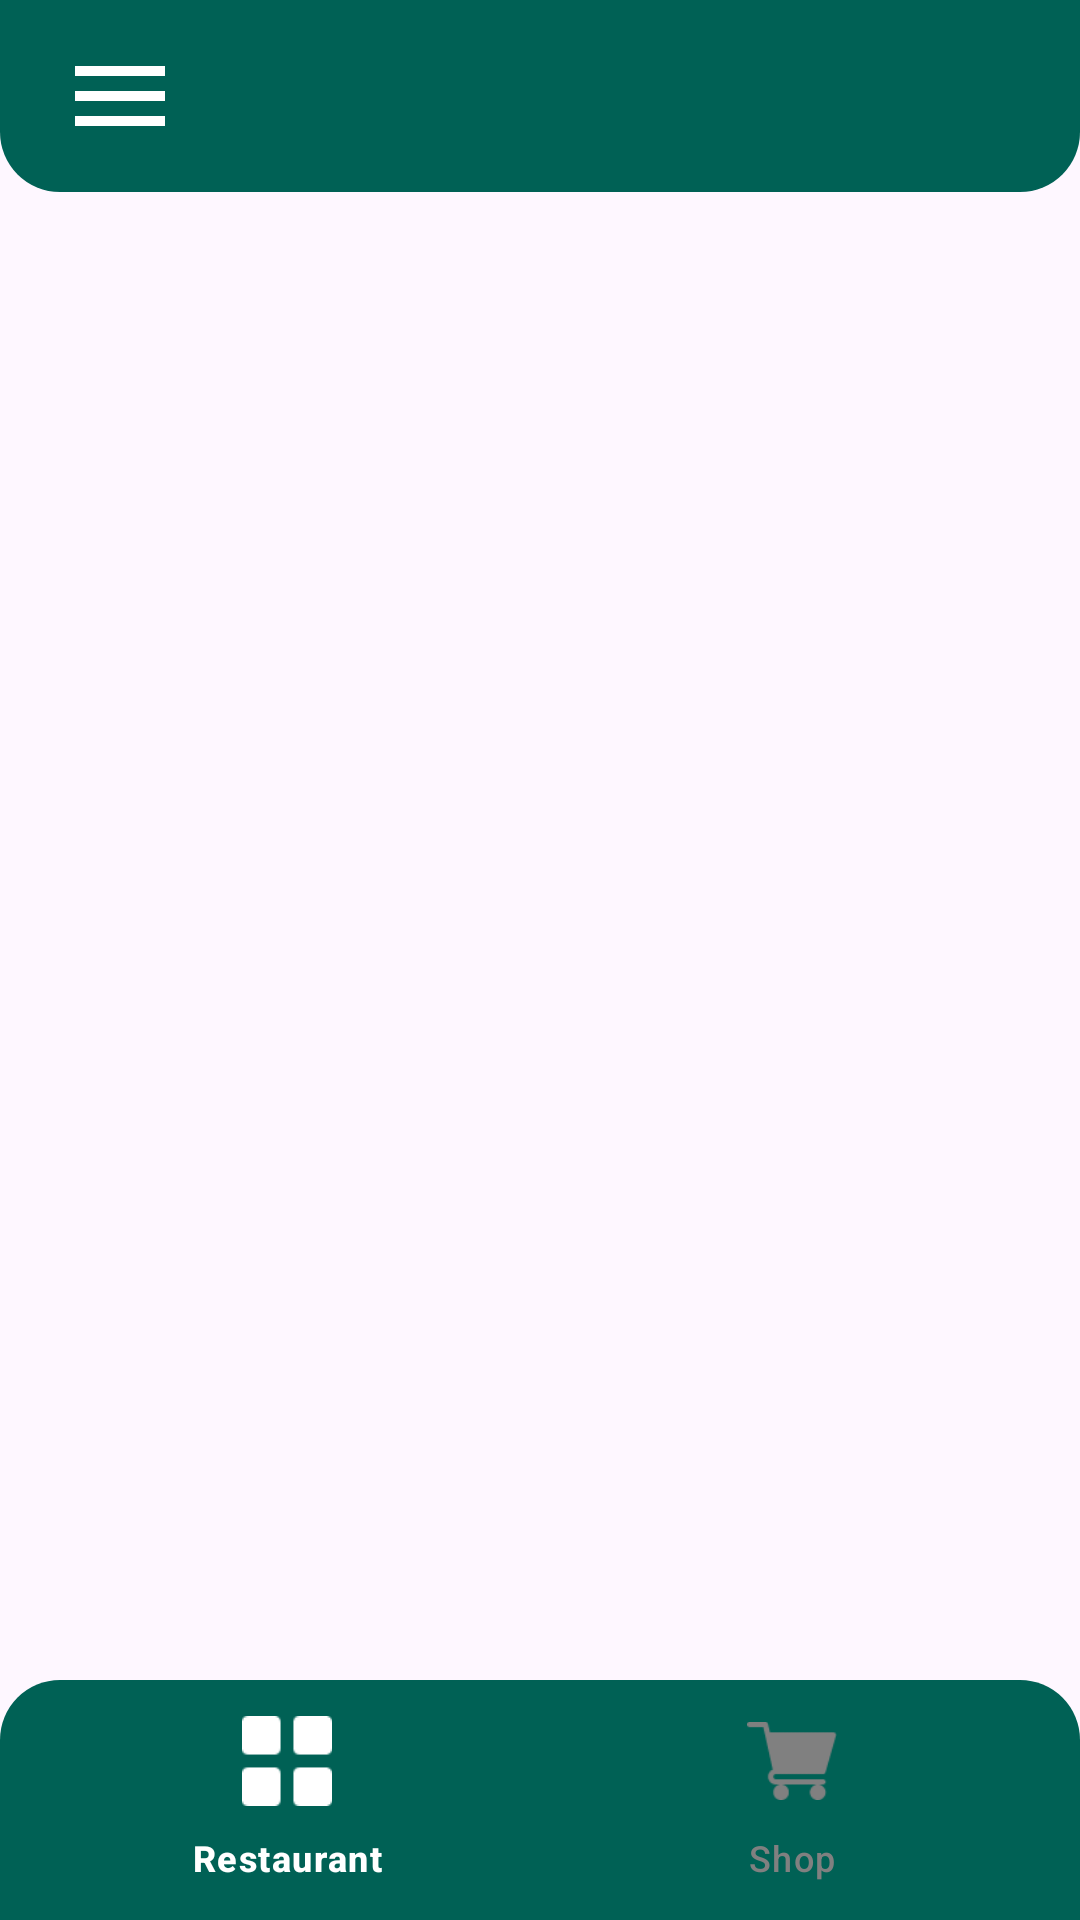

Screen size 1080*1920. Icon name, then its center in pixels as (x,y):
menu: (120,96)
